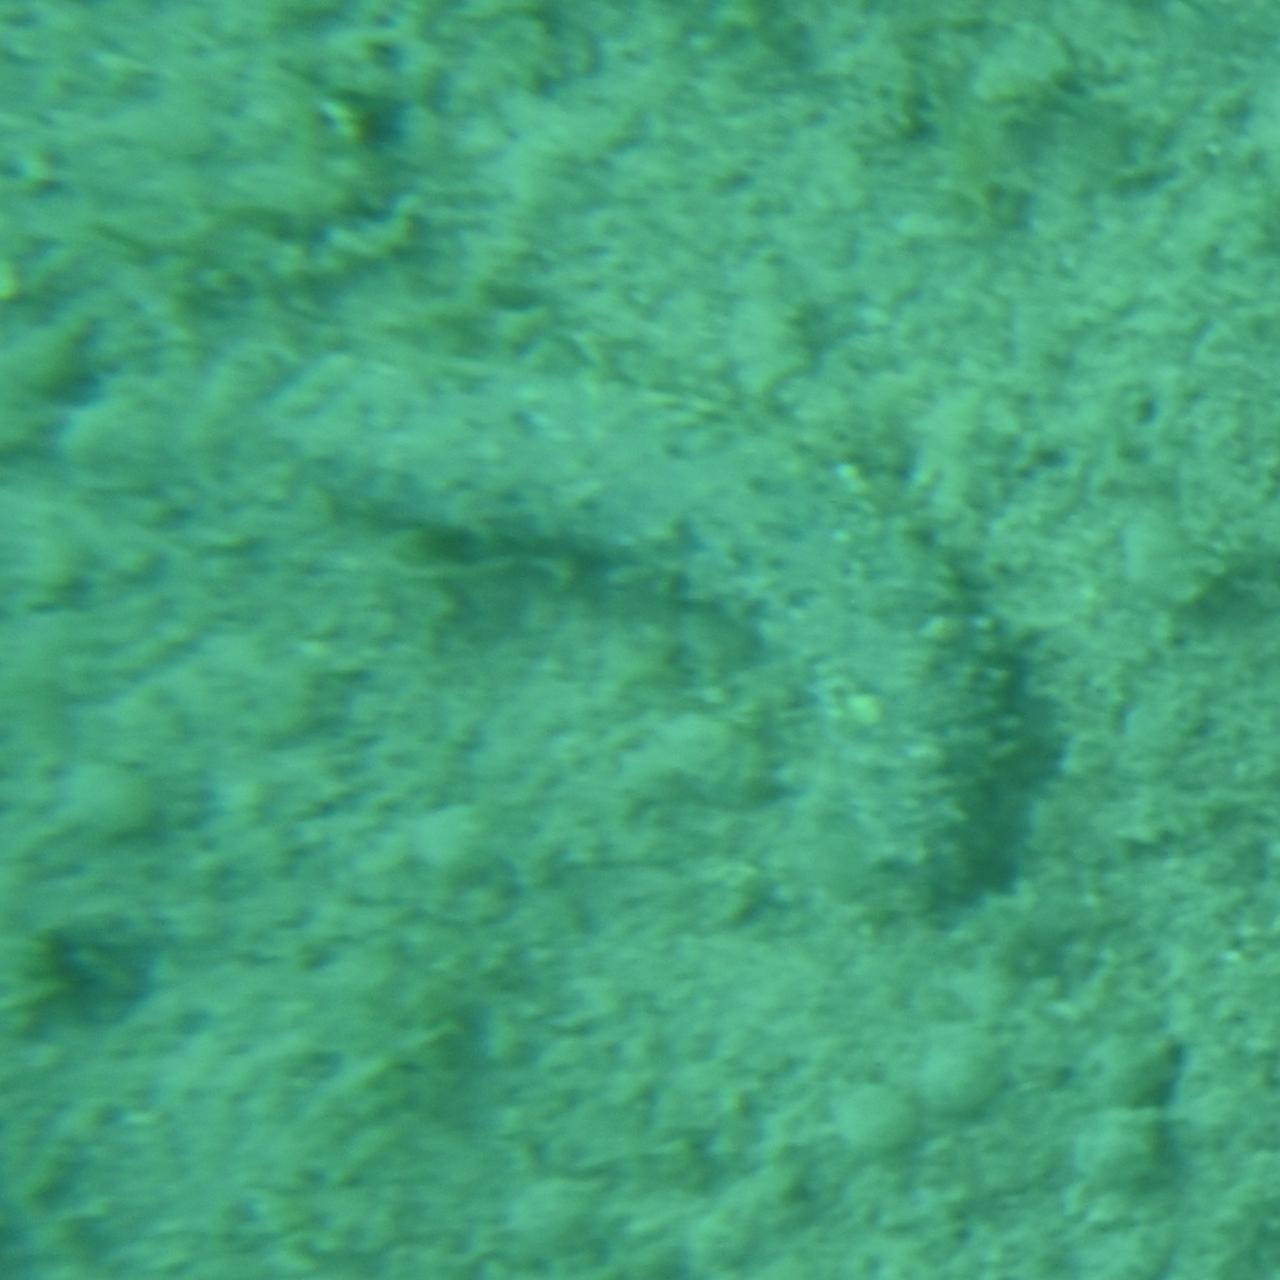Holothuria tubulosa: (238, 366, 1042, 914)
